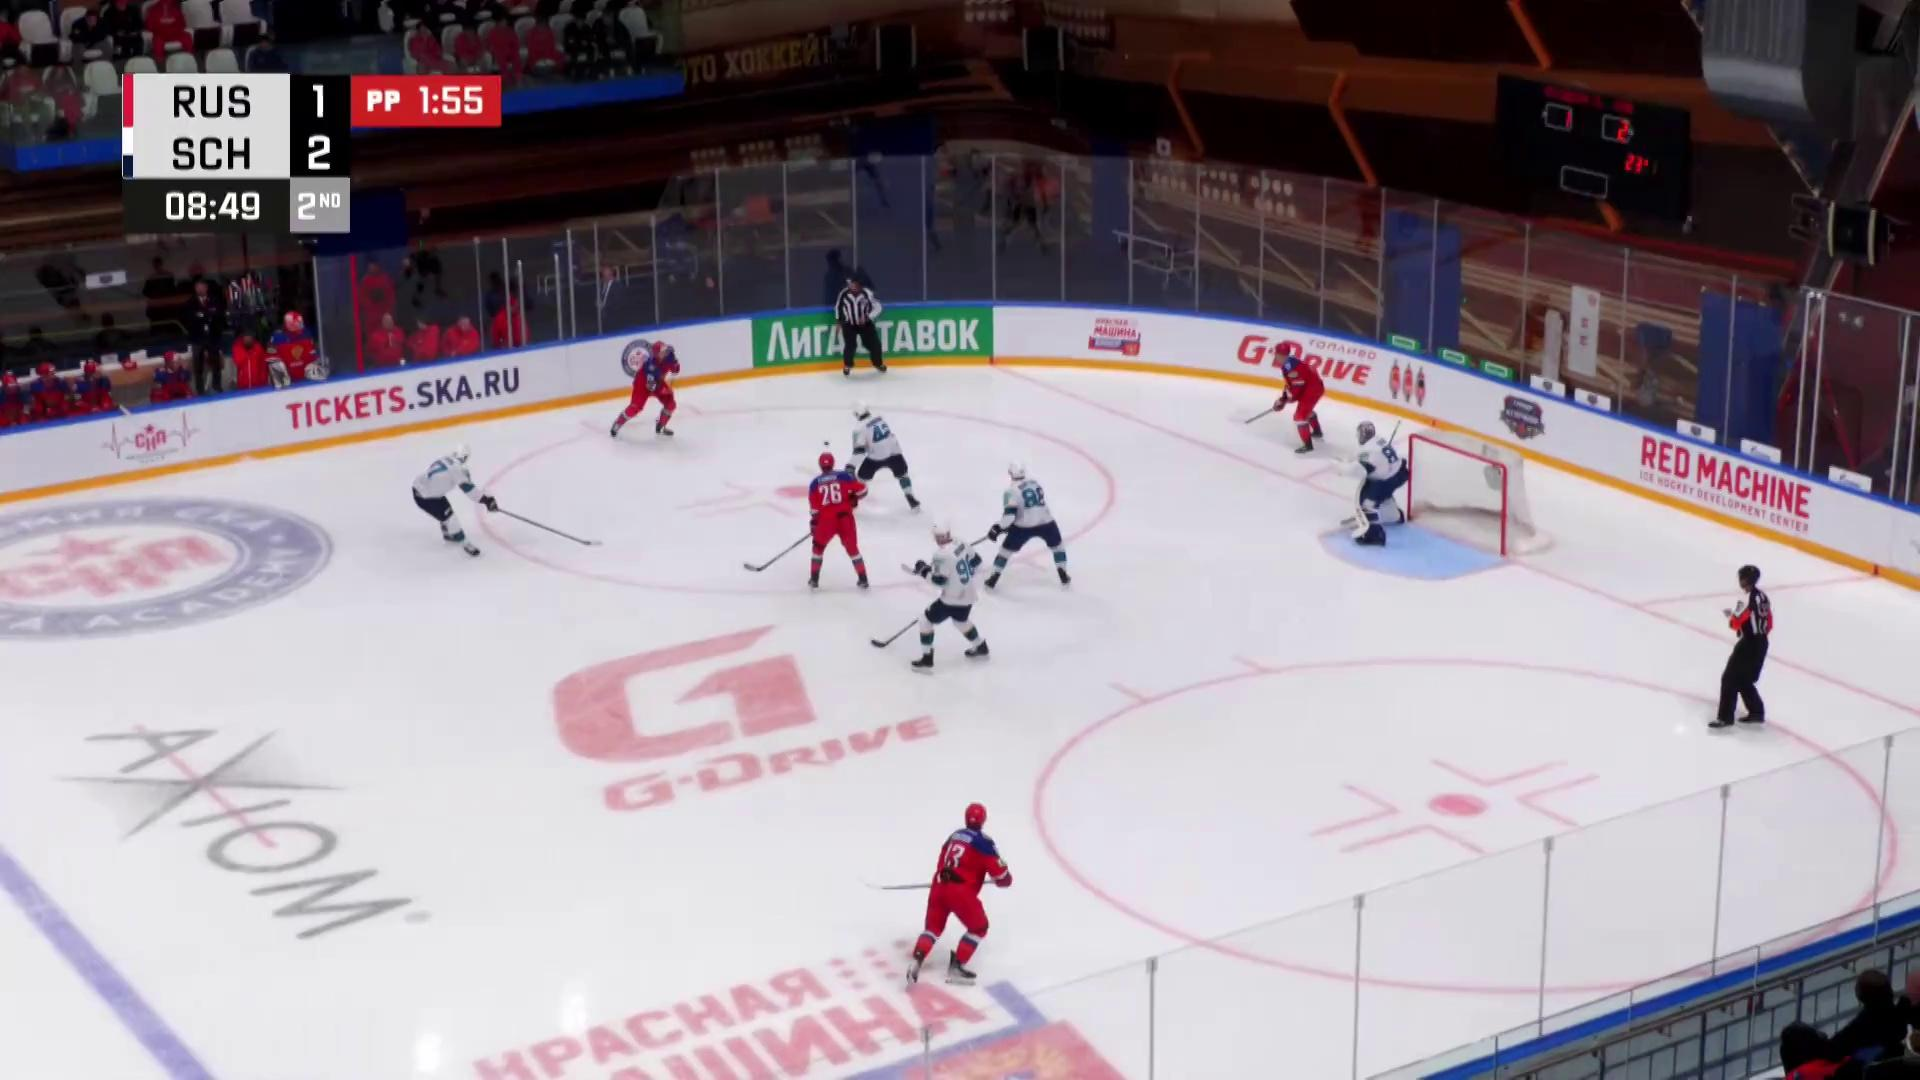ball: (823, 440, 831, 447)
